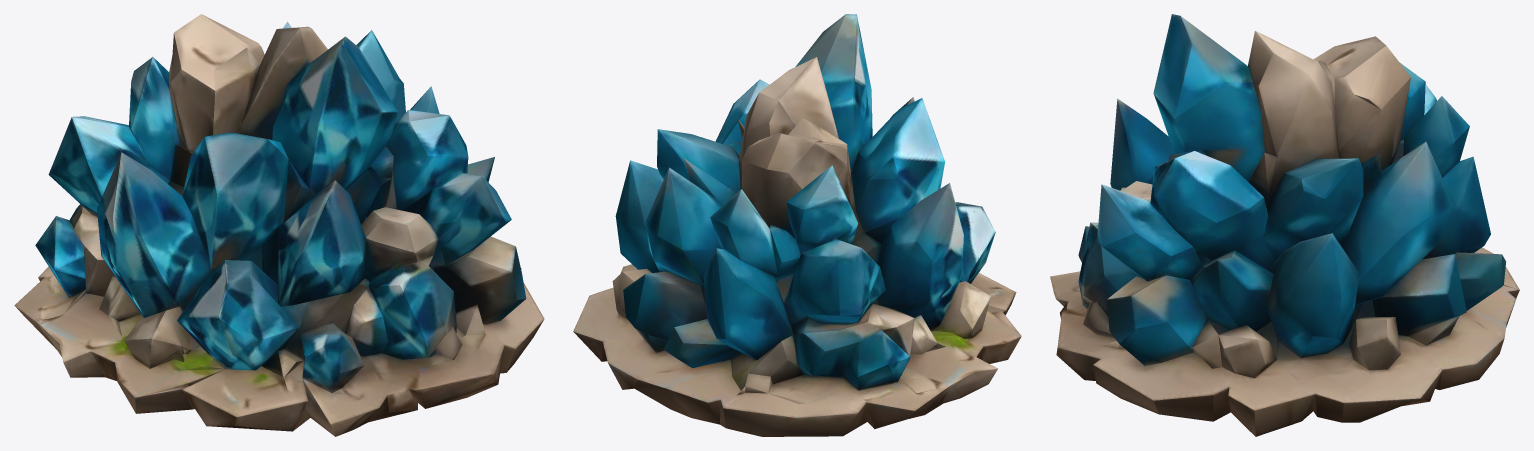
Rendered from m2CrystalCluster.glb.
3 renders of one model, left to right at view 1: azimuth 30°, elevation 25°; view 2: azimuth 150°, elevation 25°; view 3: azimuth 270°, elevation 25°, orthographic. The views are drawn at different scales.
Parts seen in each view (by area): view 1: model; view 2: model; view 3: model.
Boxes of the visible parts, <box> form: model: <box>14,14,544,436</box>; model: <box>573,14,1021,436</box>; model: <box>1050,14,1519,436</box>.
Bounding box in the file's own units: 1.91 × 1.42 × 1.86.
Materials: 1 (1 with a texture image).
